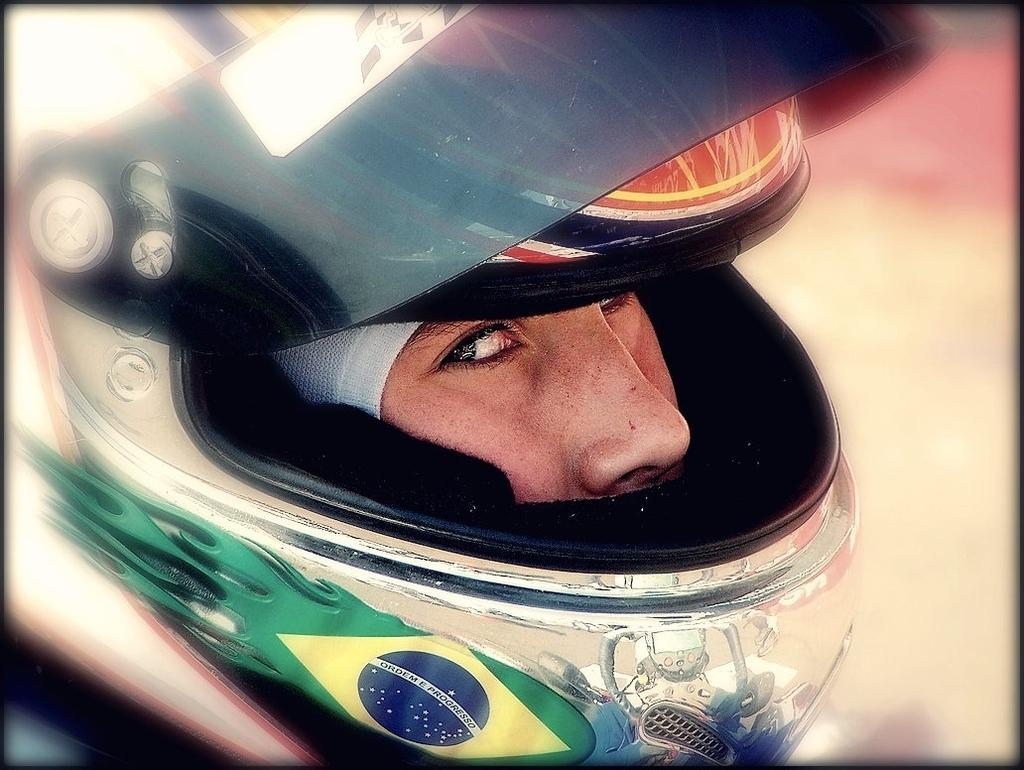helmet: (10, 0, 954, 768)
